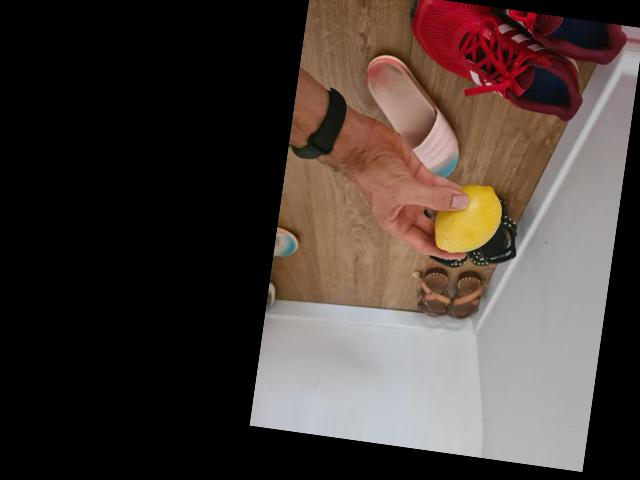lemon: (430, 177, 503, 258)
